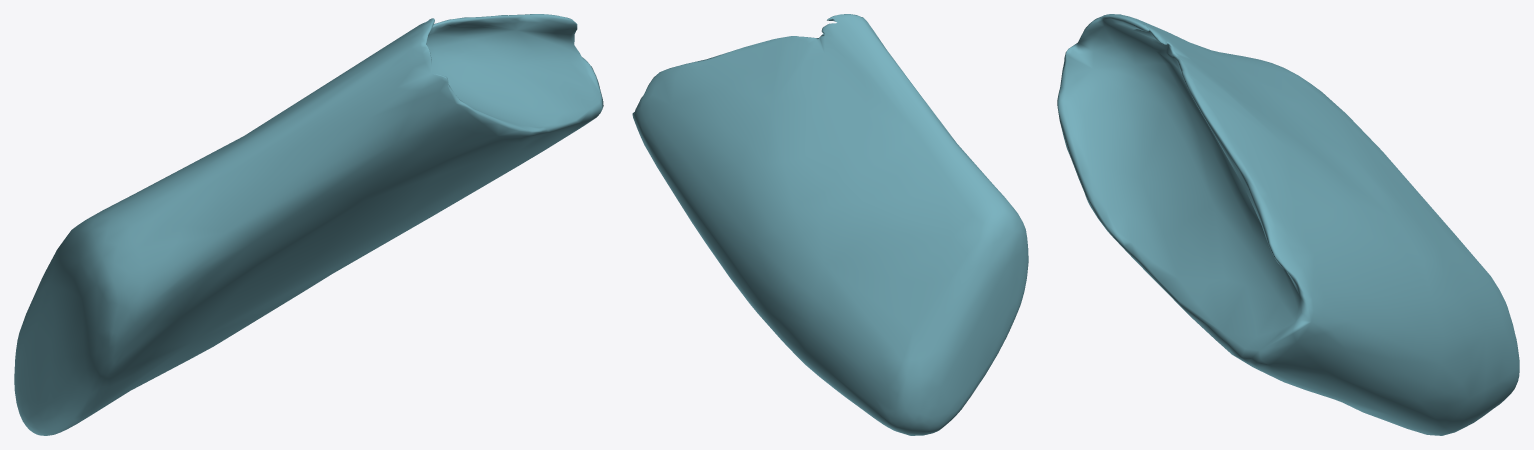
3 renders of one model, left to right at view 1: azimuth 30°, elevation 25°; view 2: azimuth 150°, elevation 25°; view 3: azimuth 270°, elevation 25°, orthographic. The views are drawn at different scales.
Parts seen in each view (by area): view 1: 左侧第一肋软骨; view 2: 左侧第一肋软骨; view 3: 左侧第一肋软骨.
Part boxes in pixels (<box>): 左侧第一肋软骨: <box>14,14,603,435</box>; 左侧第一肋软骨: <box>632,14,1028,435</box>; 左侧第一肋软骨: <box>1057,14,1519,435</box>.
Size of the model in its own units: 0.045 by 0.0355 by 0.0279.
